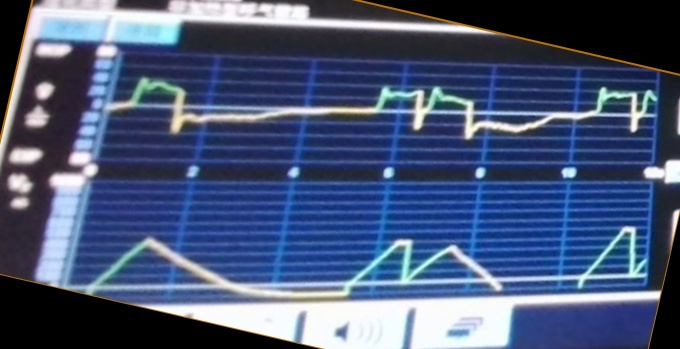Double_Triggering Flow: (118, 73, 655, 160)
Double_Triggering Volume: (120, 218, 649, 301)
